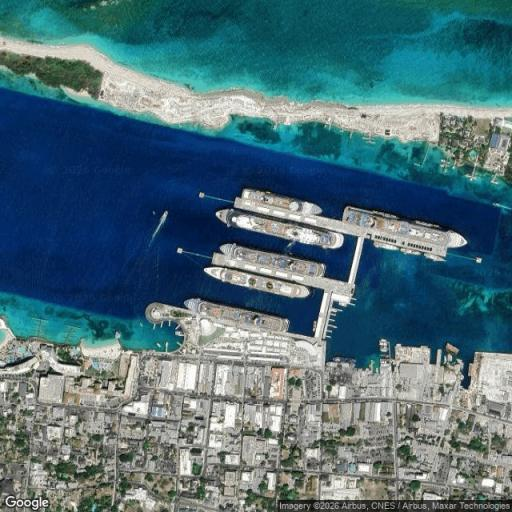ship: (342, 206, 467, 248), (216, 209, 343, 248), (220, 244, 325, 276), (184, 299, 289, 331), (204, 267, 309, 297), (241, 189, 321, 215), (373, 241, 423, 255), (400, 248, 444, 260), (152, 211, 168, 241), (380, 339, 390, 365), (374, 242, 399, 250), (466, 162, 476, 180), (326, 362, 355, 368), (424, 253, 444, 261), (445, 344, 459, 355), (401, 248, 421, 255), (380, 339, 389, 354), (493, 203, 511, 210), (332, 357, 357, 362), (363, 134, 375, 144), (466, 168, 475, 180), (441, 159, 449, 172), (491, 174, 498, 184), (312, 320, 317, 332), (493, 203, 505, 207), (441, 159, 447, 164), (156, 343, 161, 347), (140, 322, 143, 327)
